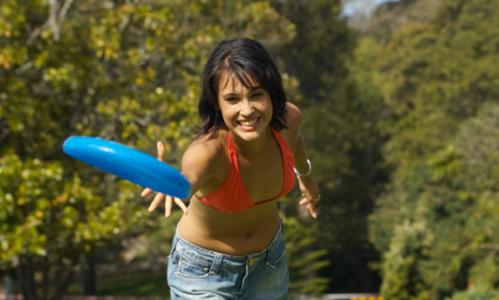person: (142, 37, 321, 300)
